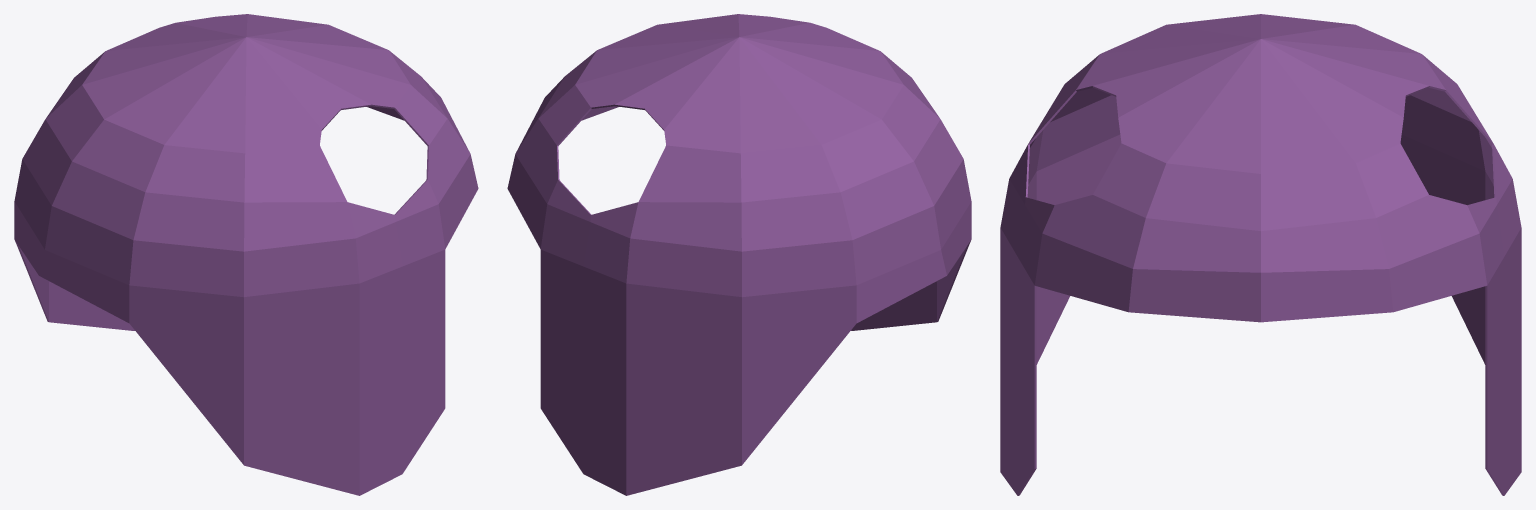
File: Trapper_Hat.fbx
The picture shows the model from 3 angles, left to right: view 1: azimuth 30°, elevation 25°; view 2: azimuth 150°, elevation 25°; view 3: azimuth 270°, elevation 25°; orthographic projection. The views are drawn at different scales.
Visible parts, largest first — view 1: TrapperHat; view 2: TrapperHat; view 3: TrapperHat.
Boxes of the visible parts, x1,y1,x2,y2 form: TrapperHat: (14,14,478,495); TrapperHat: (507,14,971,495); TrapperHat: (1000,14,1521,495).
Bounding box in the file's own units: 261 × 230 × 250.
